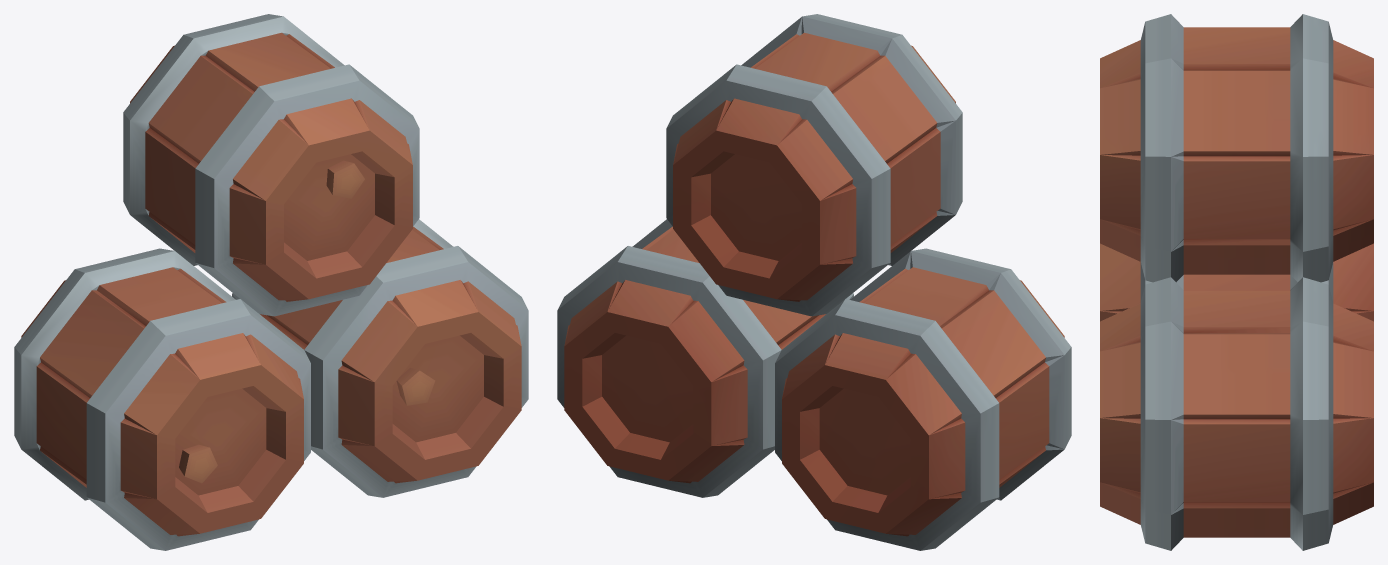
Rendered from barrel_stack.glb.
3 renders of one model, left to right at view 1: azimuth 30°, elevation 25°; view 2: azimuth 150°, elevation 25°; view 3: azimuth 270°, elevation 25°, orthographic.
Parts seen in each view (by area): view 1: barrel_small_stack; view 2: barrel_small_stack; view 3: barrel_small_stack.
Part boxes in pixels (x1,y1,x2,y2): barrel_small_stack: (14, 14, 528, 550); barrel_small_stack: (557, 14, 1071, 550); barrel_small_stack: (1100, 14, 1373, 550).
Size of the model in its own units: 1.85 by 1.77 by 1.
1 material, 1 textured.
